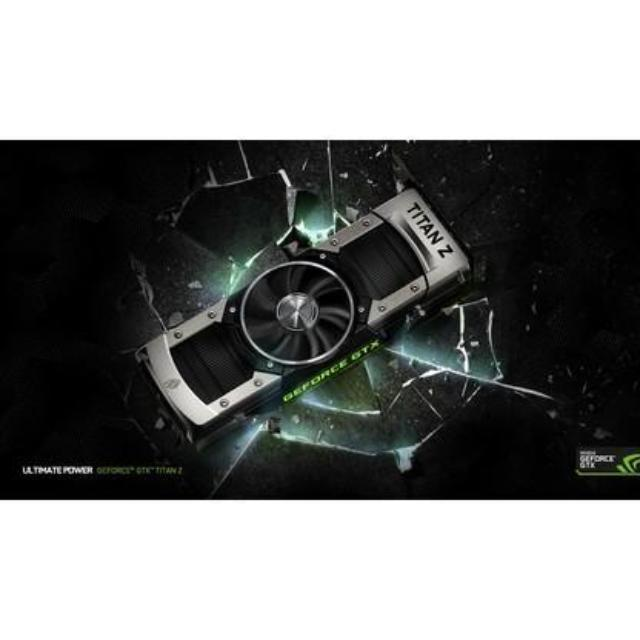GPU: (143, 189, 468, 451)
